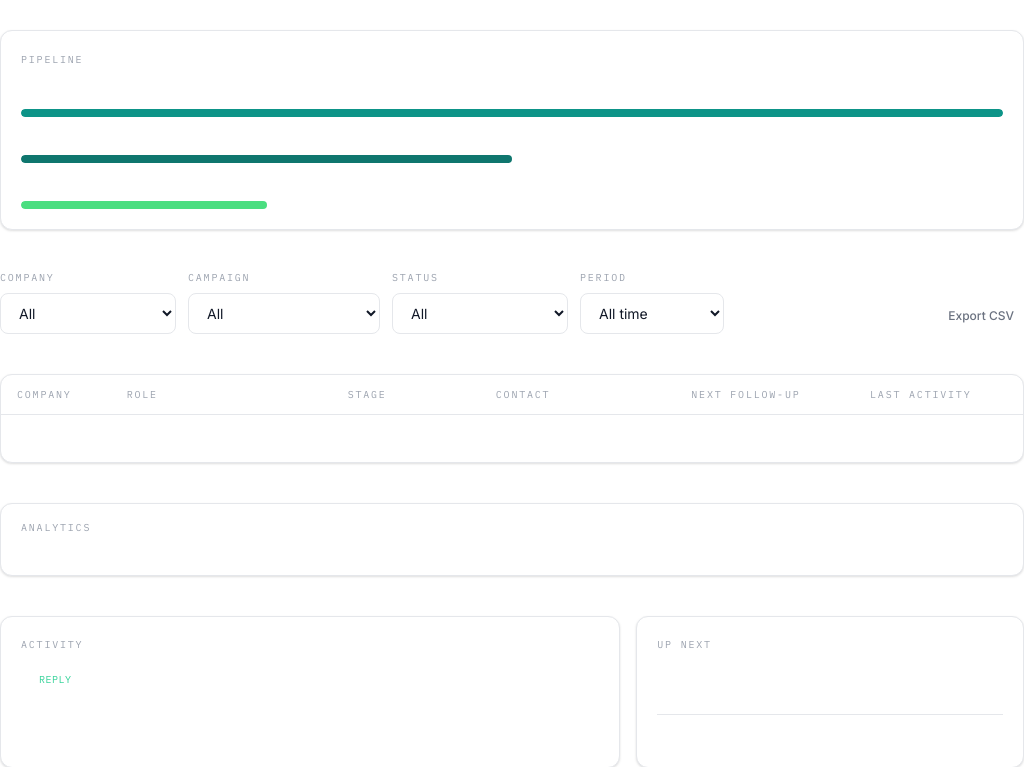
Test: Pipeline analytics › shows the headline rates once opened
(page scrolled)
Step 1. Click the button "Analytics" → [56, 527], box x1=1 y1=504 x2=1023 y2=574
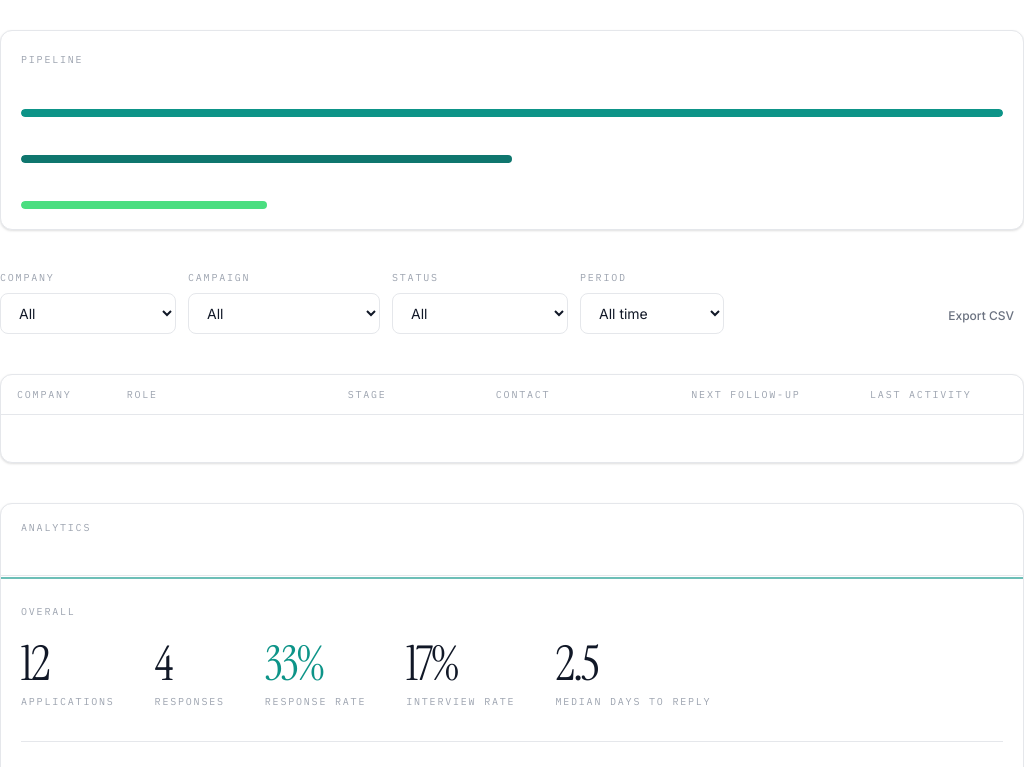
Now the text "Median days to reply" is shown, box x1=555 y1=694 x2=711 y2=708
Now the text "2.5" is shown, box x1=555 y1=632 x2=598 y2=694
